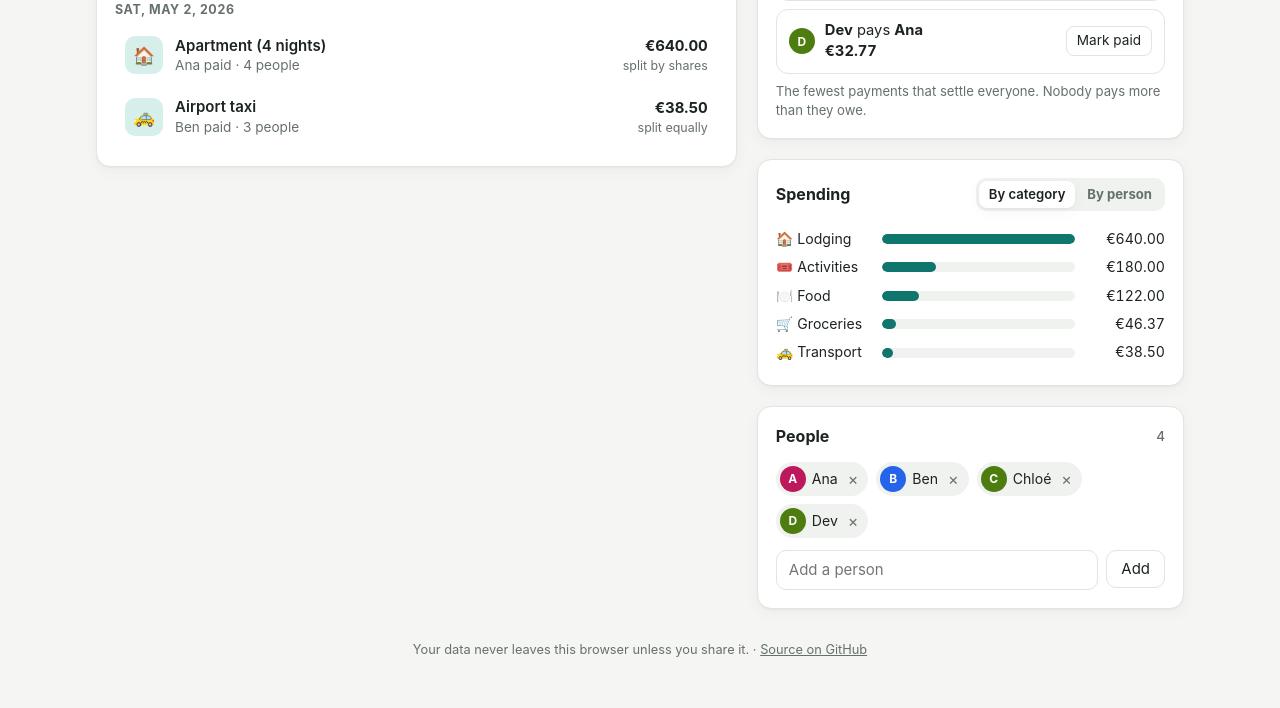
Test: Tally app › won't remove someone who is part of an expense
(page scrolled)
Click the button named "Remove Ben".
click(953, 479)  # box [944, 471, 963, 487]
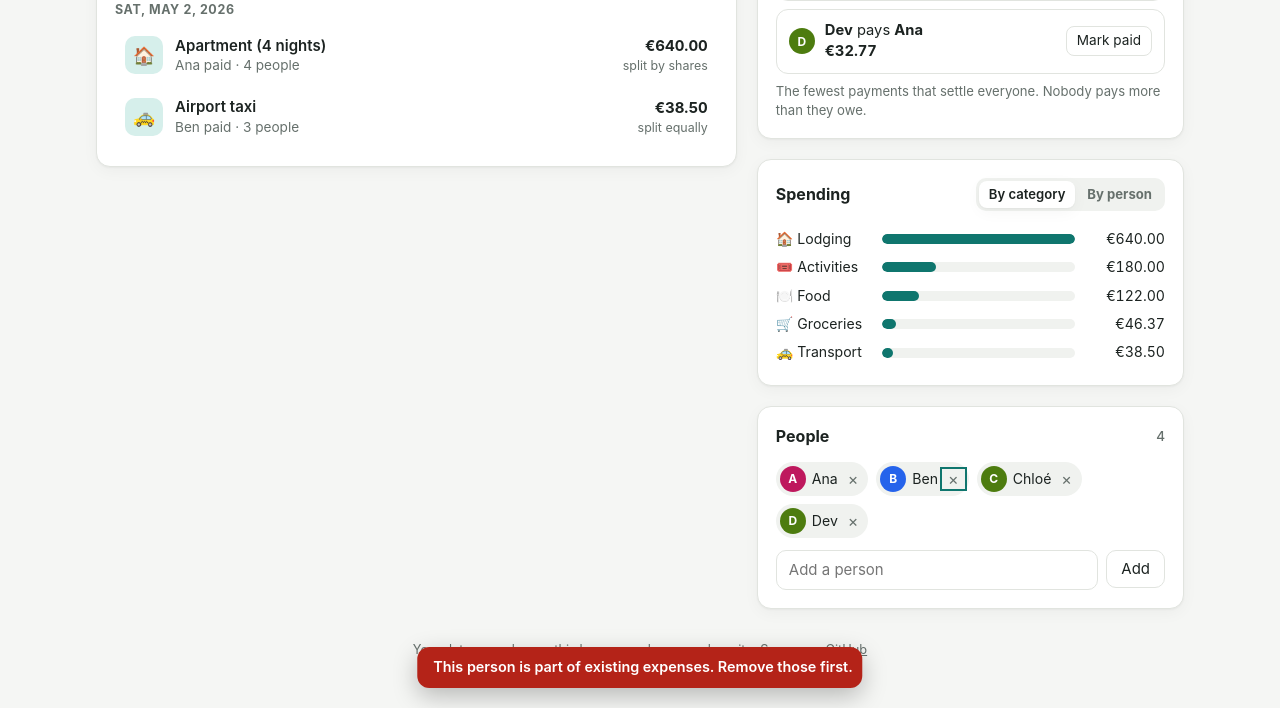
Result: the message shows "part of existing expenses" at [433, 658, 853, 675]
